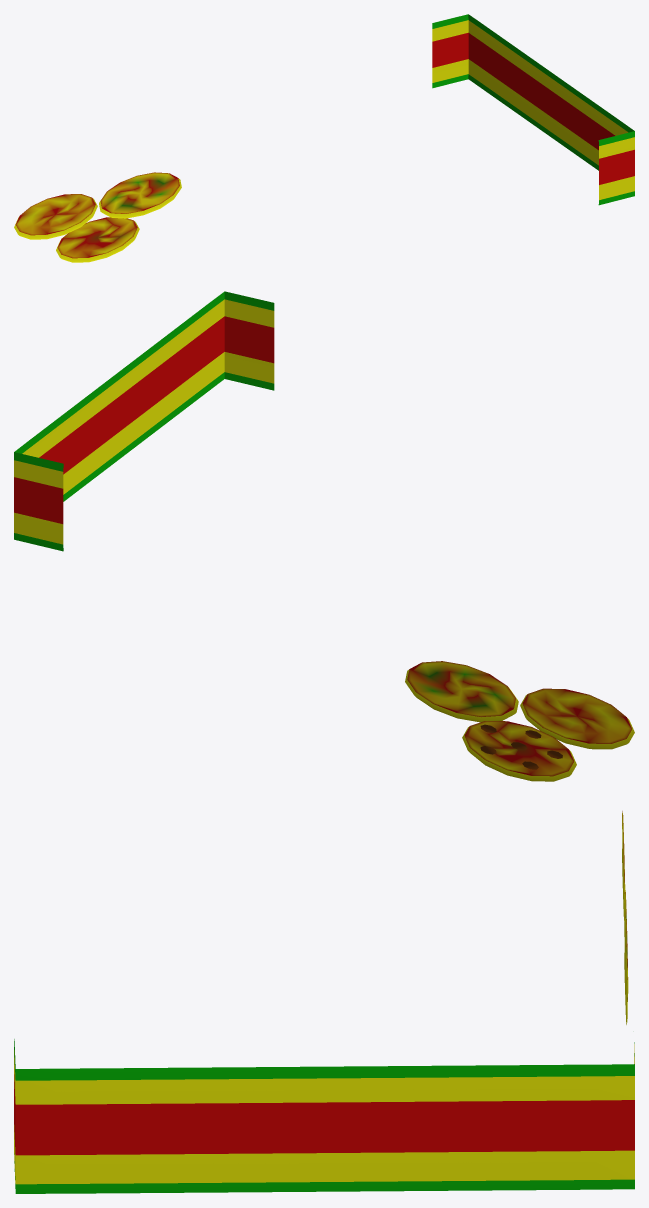
Rendered from light.005.fbx.
3 views of the same model, one above another, from view 1: azimuth 30°, elevation 25°; view 2: azimuth 150°, elevation 25°; view 3: azimuth 270°, elevation 25° (orthographic). The views are drawn at different scales.
Parts seen in each view (by area): view 1: light.005; view 2: light.005; view 3: light.005.
Part boxes in pixels (x1,y1,x2,y2): light.005: (14,14,634,262); light.005: (14,291,634,781); light.005: (14,811,634,1193).
Bounding box in the file's own units: 1020 × 1684 × 533.
